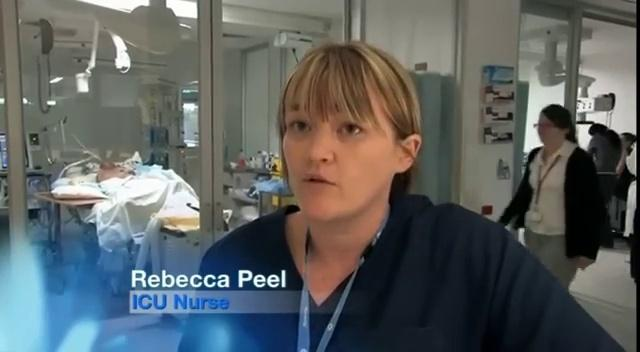nurse: (174, 39, 628, 351)
others: (496, 103, 606, 293)
patient: (92, 158, 135, 185)
